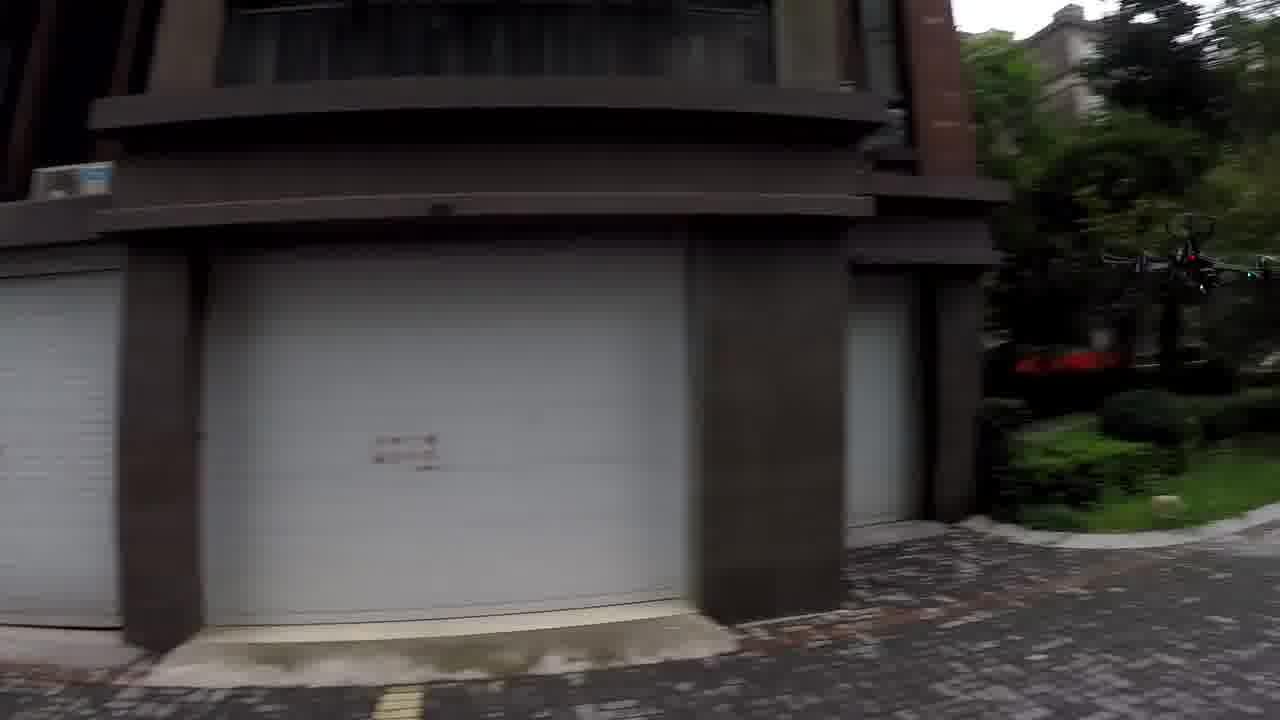drone: (1090, 205, 1274, 329)
